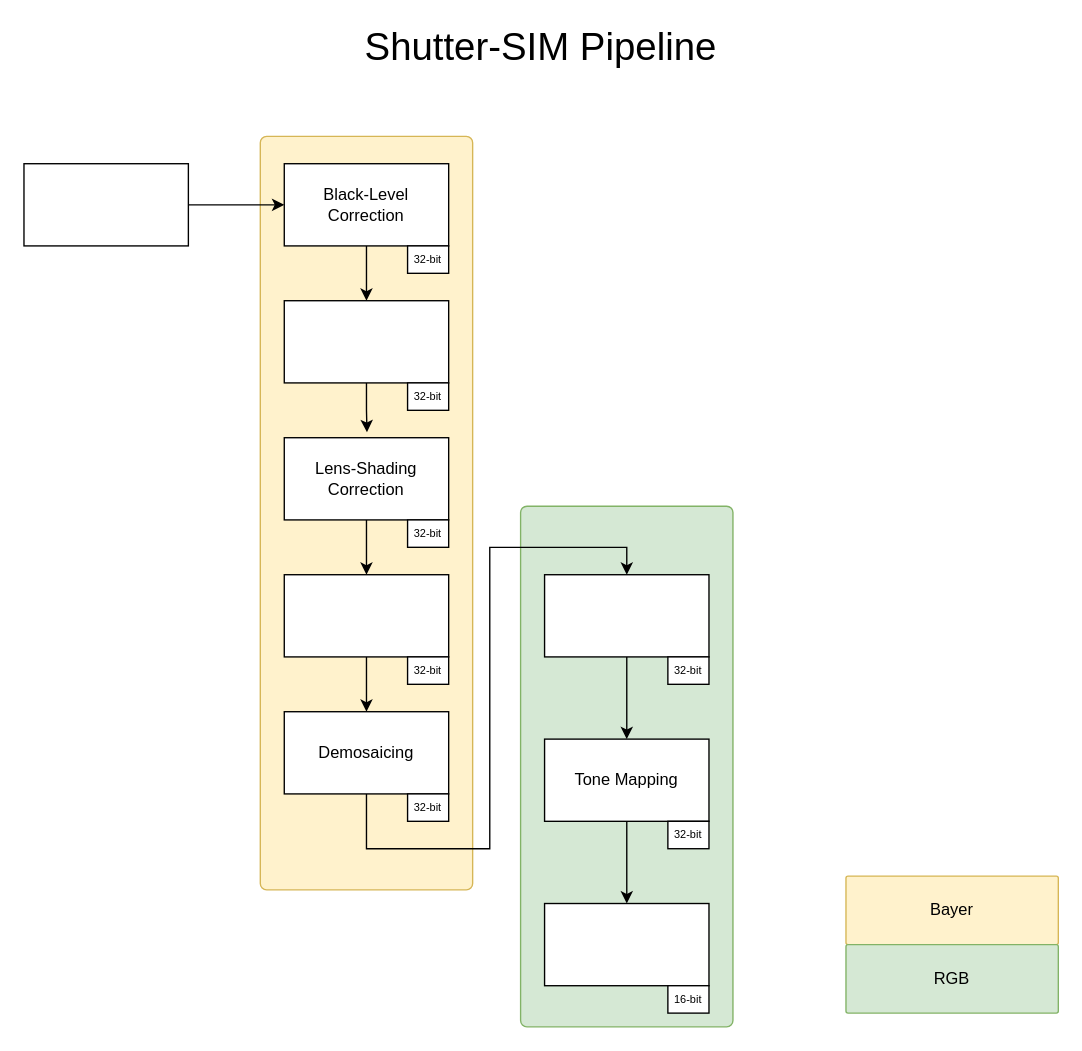
This 1082x1051 diagram has some shape labels left out. The box of each missing label's shape, as (x1, y1, x2, y2) in pixels:
Color Correction Matrix: (543, 573, 709, 657)
Dead Pixel Correction: (283, 299, 449, 383)
JPEG: (543, 902, 709, 986)
Sensor Input: (23, 162, 188, 246)
White Balance: (283, 573, 449, 657)
